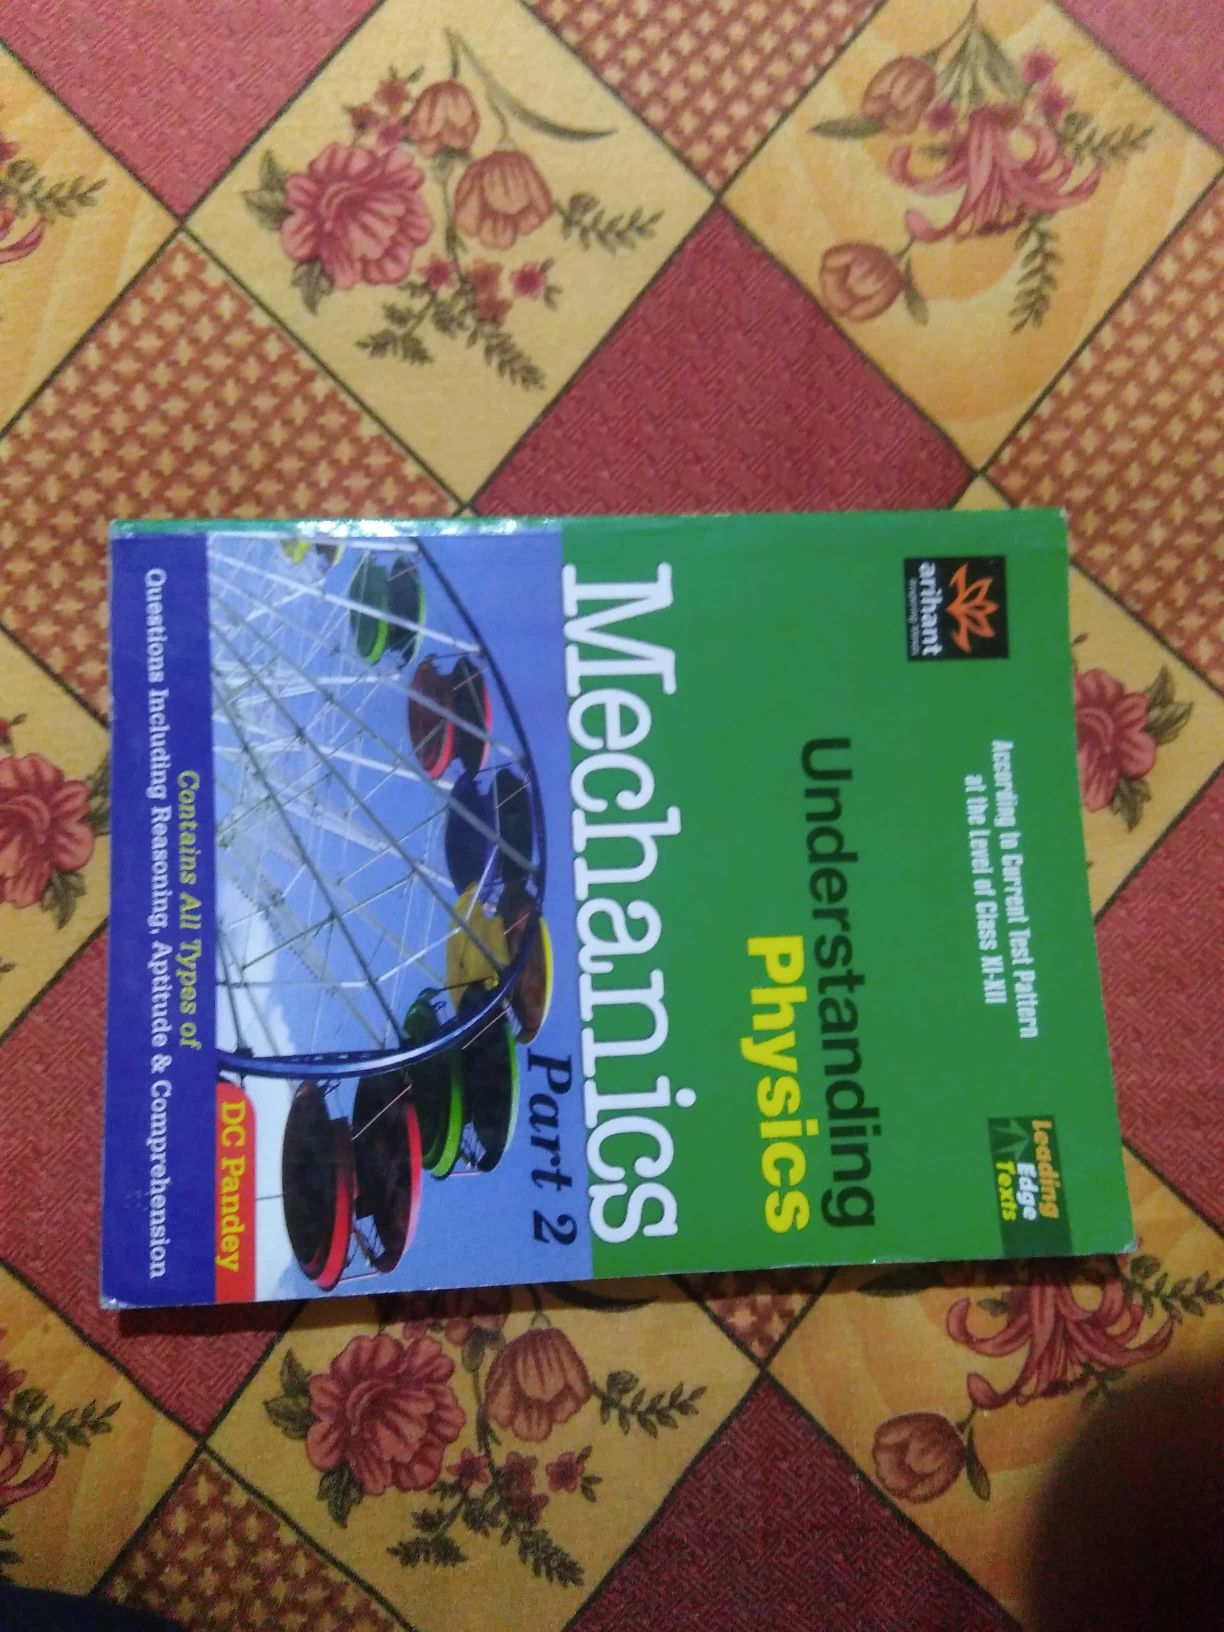mechanics: (73, 478, 1144, 1302)
